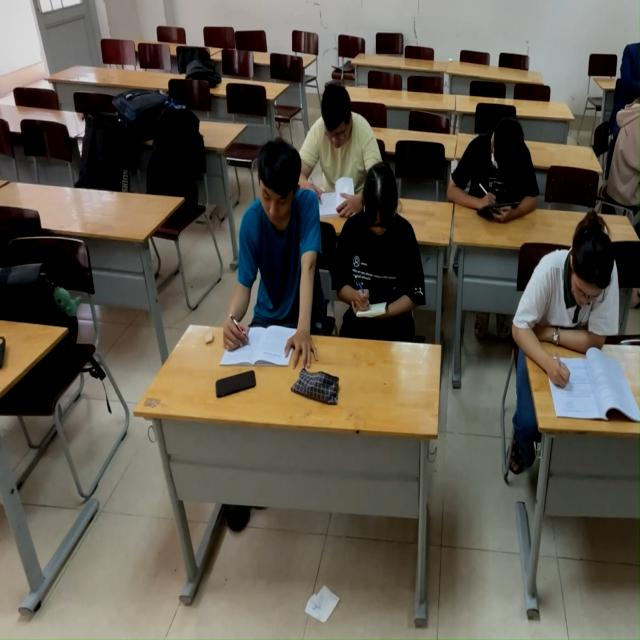read: (219, 150, 320, 395), (523, 230, 637, 433), (335, 177, 437, 365), (442, 105, 535, 230), (309, 72, 366, 214)
